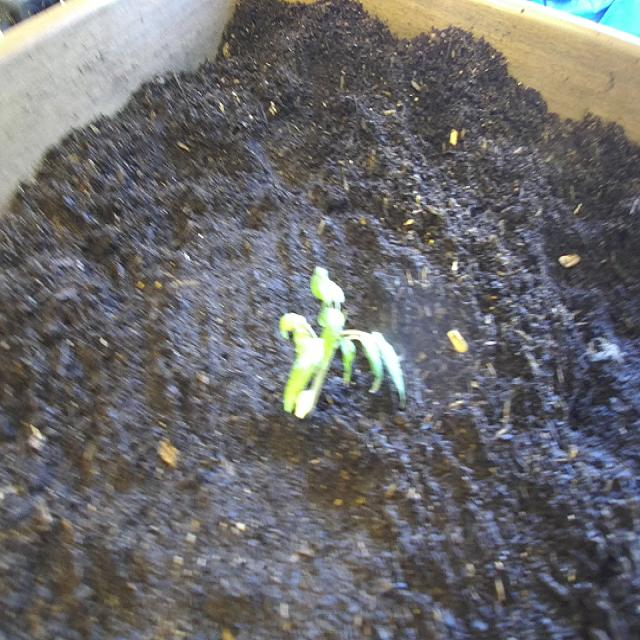Healthy: (270, 248, 420, 439)
